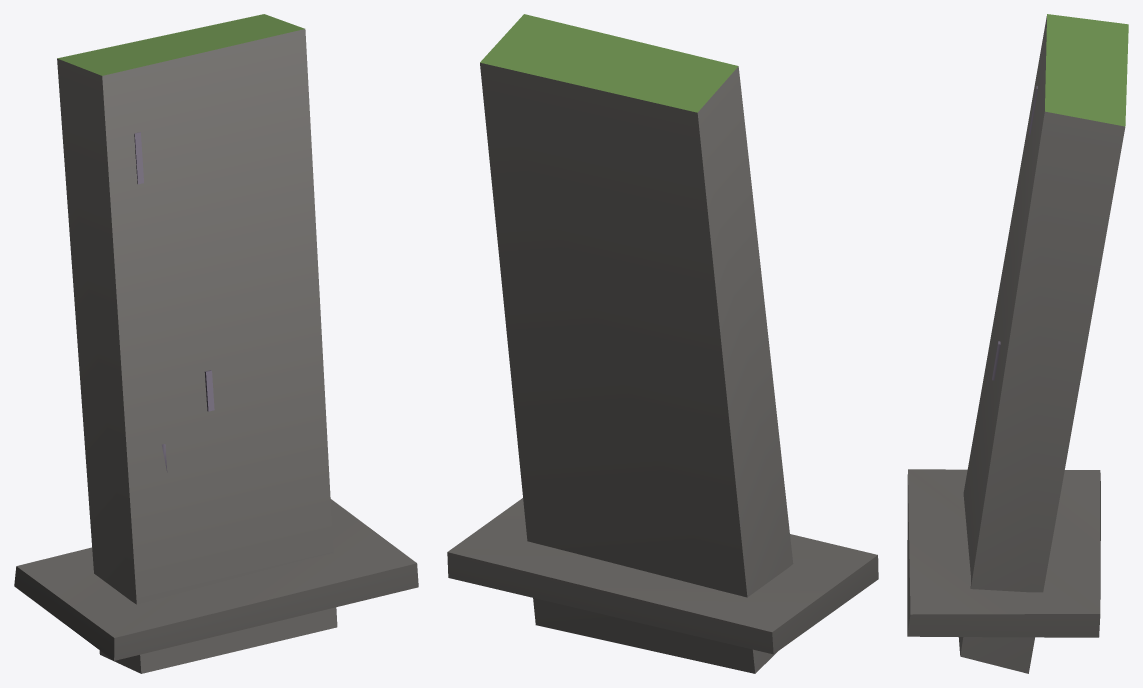
File: obj_monolito_2.glb
3 renders of one model, left to right at view 1: azimuth 30°, elevation 25°; view 2: azimuth 150°, elevation 25°; view 3: azimuth 270°, elevation 25°, orthographic. The views are drawn at different scales.
Visible parts, largest first — view 1: propforge-libre-monolito; view 2: propforge-libre-monolito; view 3: propforge-libre-monolito.
Part boxes in pixels (box(x1,y1,x2,y2)): propforge-libre-monolito: box(14, 14, 418, 673); propforge-libre-monolito: box(447, 14, 878, 673); propforge-libre-monolito: box(907, 14, 1128, 673).
Bounding box in the file's own units: 0.6337 × 1.15 × 0.4074.
